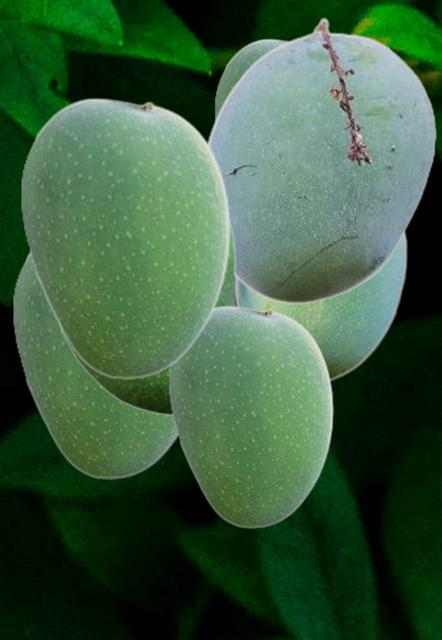green_mango: (206, 17, 436, 303), (20, 97, 230, 378), (12, 249, 177, 478), (56, 213, 239, 416), (168, 305, 333, 527), (237, 231, 407, 382), (214, 38, 287, 118)
